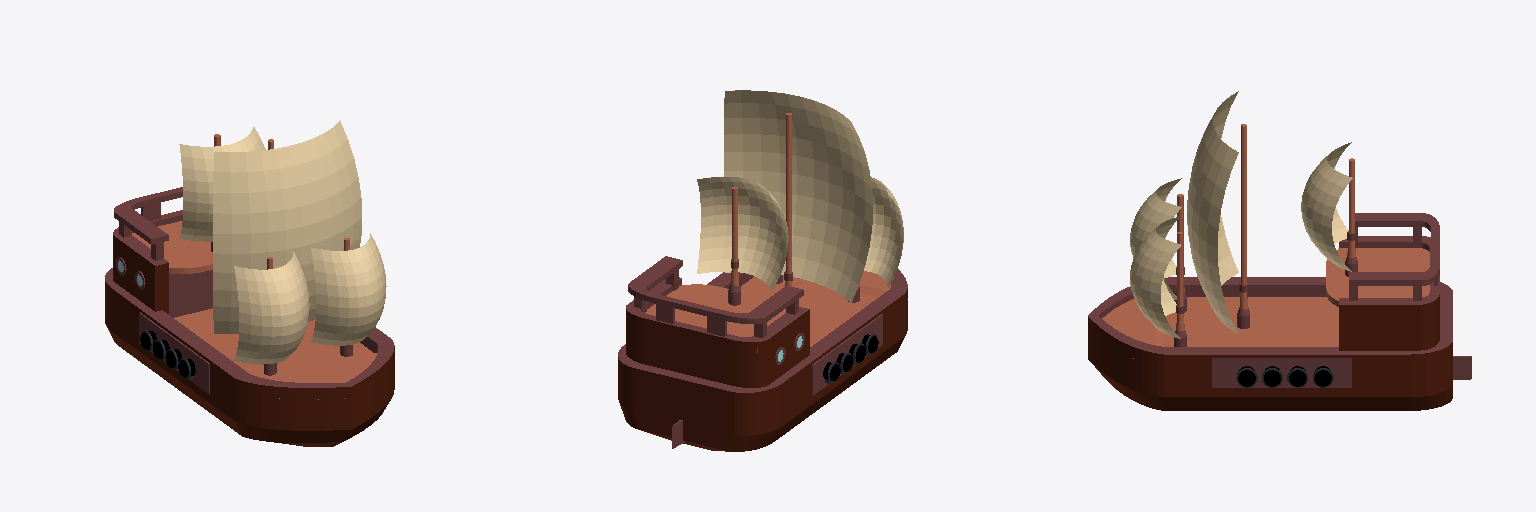
The model's file is player_ship_2.obj.
The picture shows the model from 3 angles: view 1: azimuth 30°, elevation 25°; view 2: azimuth 150°, elevation 25°; view 3: azimuth 270°, elevation 25°; orthographic projection.
Visible parts, largest first — view 1: mergedBlocks; view 2: mergedBlocks; view 3: mergedBlocks.
Boxes of the visible parts, <box> form: mergedBlocks: <box>105,121,394,446</box>; mergedBlocks: <box>618,90,907,451</box>; mergedBlocks: <box>1088,91,1471,410</box>.
Size of the model in its own units: 3.3 by 4.68 by 6.06.